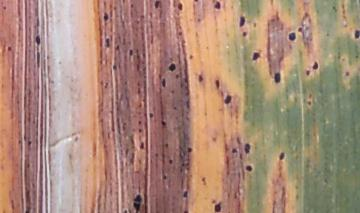tarspot: (132, 193, 143, 213), (273, 72, 282, 84), (252, 51, 261, 62), (287, 31, 296, 42), (238, 14, 245, 28), (102, 12, 110, 23), (243, 143, 251, 154), (196, 73, 204, 83), (311, 60, 318, 71), (215, 79, 222, 90), (35, 34, 41, 46), (277, 151, 285, 160), (245, 164, 253, 173), (225, 95, 233, 104), (167, 63, 176, 71), (127, 48, 135, 57), (200, 176, 207, 186), (105, 37, 111, 48), (214, 202, 220, 213), (160, 77, 166, 88), (176, 3, 184, 11), (296, 25, 304, 33), (138, 142, 146, 150), (353, 29, 360, 38), (160, 119, 167, 128), (186, 144, 192, 154), (154, 1, 161, 9), (231, 146, 238, 154), (5, 46, 14, 52), (212, 2, 221, 8), (112, 63, 118, 72), (161, 173, 167, 181), (187, 53, 195, 59), (1, 5, 8, 11), (167, 159, 174, 165), (163, 142, 169, 149), (129, 2, 135, 9), (306, 69, 311, 77), (242, 31, 248, 37), (345, 71, 351, 77), (307, 100, 312, 107), (149, 112, 154, 119), (183, 191, 188, 197), (137, 119, 142, 125), (175, 73, 180, 79), (28, 139, 32, 146), (123, 208, 128, 213), (138, 128, 142, 133)
